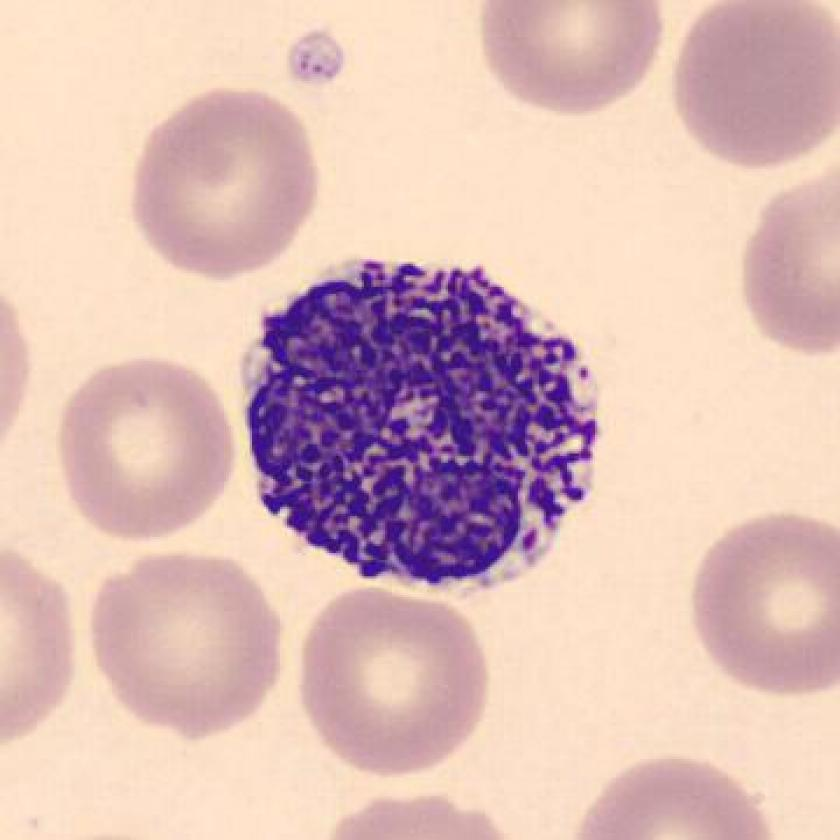basophil: (237, 251, 605, 589)
